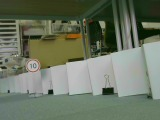speed_10: (23, 58, 41, 72)
